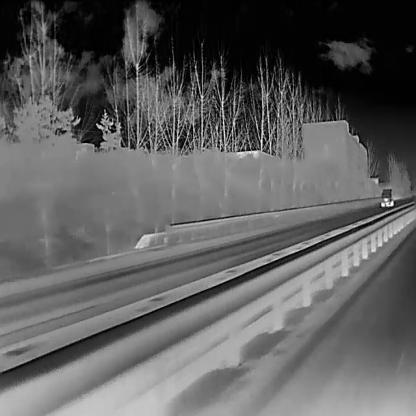car: (379, 188, 393, 207)
